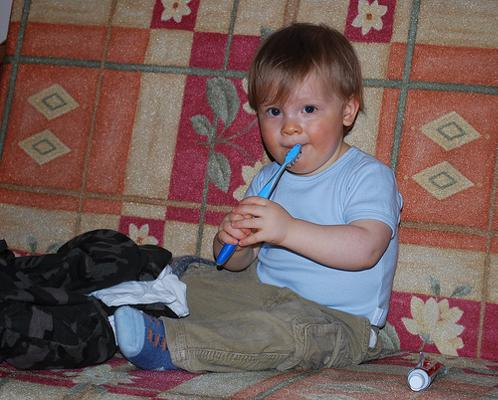person: (110, 21, 407, 378)
